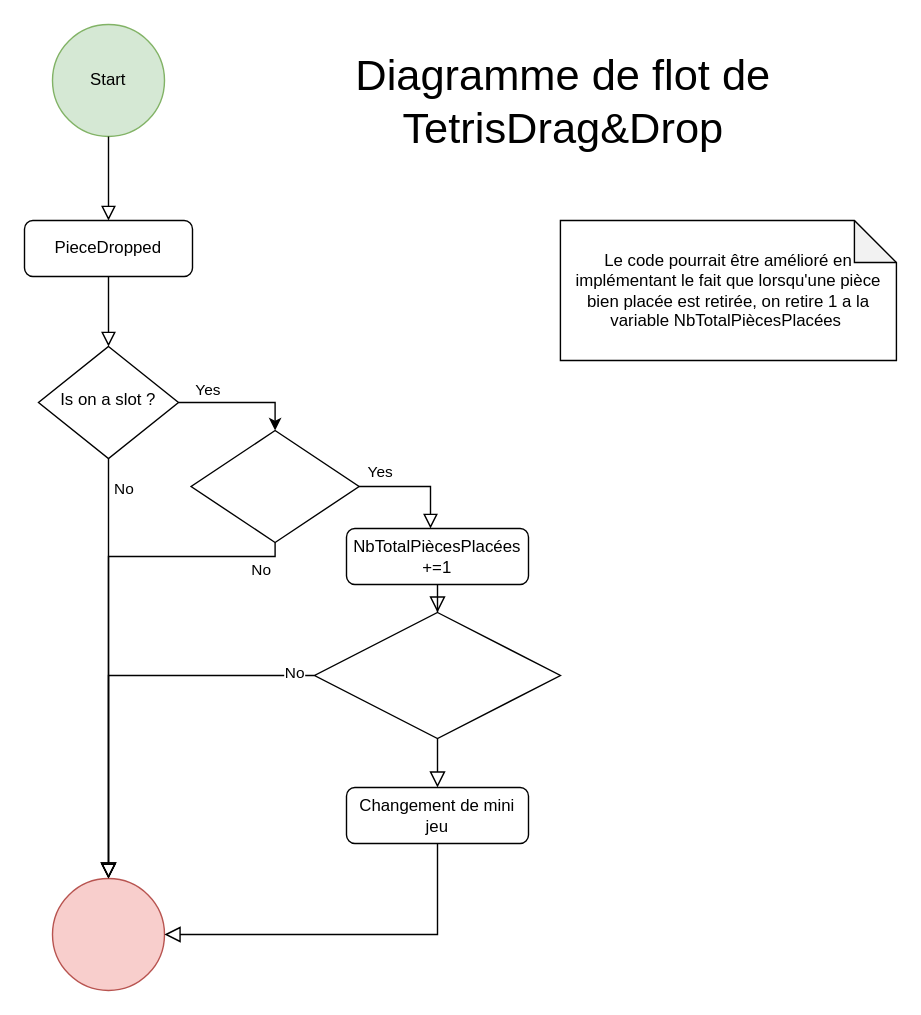
Image size: 921x1015. Some labels were removed from this diagram. Here are the shapes that lost their labels. From the top down, the centre of each, then its label:
At (274,485): "Is the right piece".
At (436,674): "NbTotalPiècesPlacées == NbTotalPièces".
At (107,933): "End".
